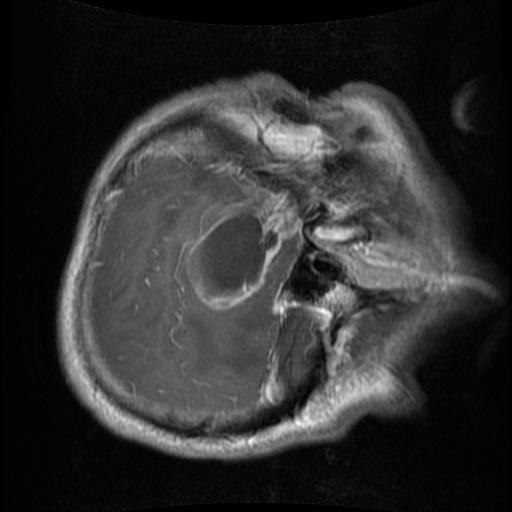glioma: (185, 216, 278, 312)
